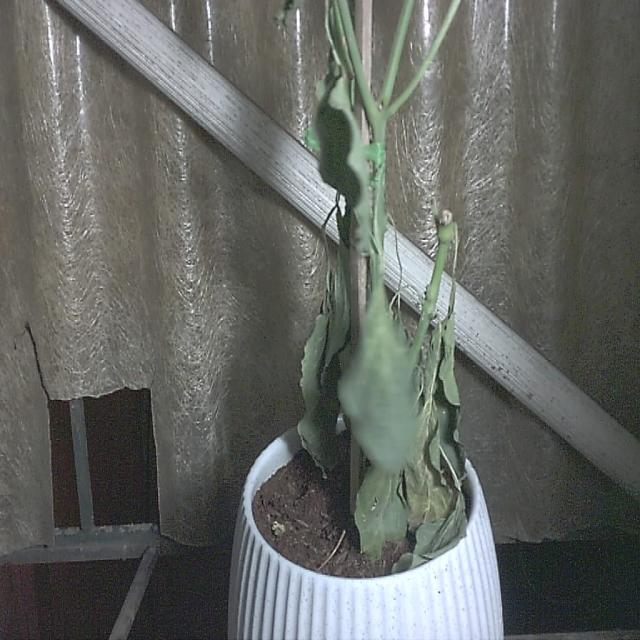Leaf: (339, 284, 418, 472), (298, 245, 349, 474), (314, 74, 371, 254), (355, 466, 406, 559)
